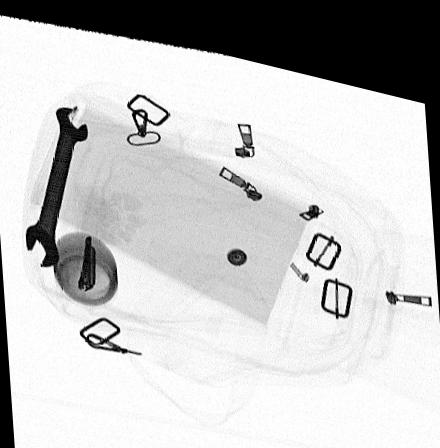Wrench: (23, 101, 89, 268)
